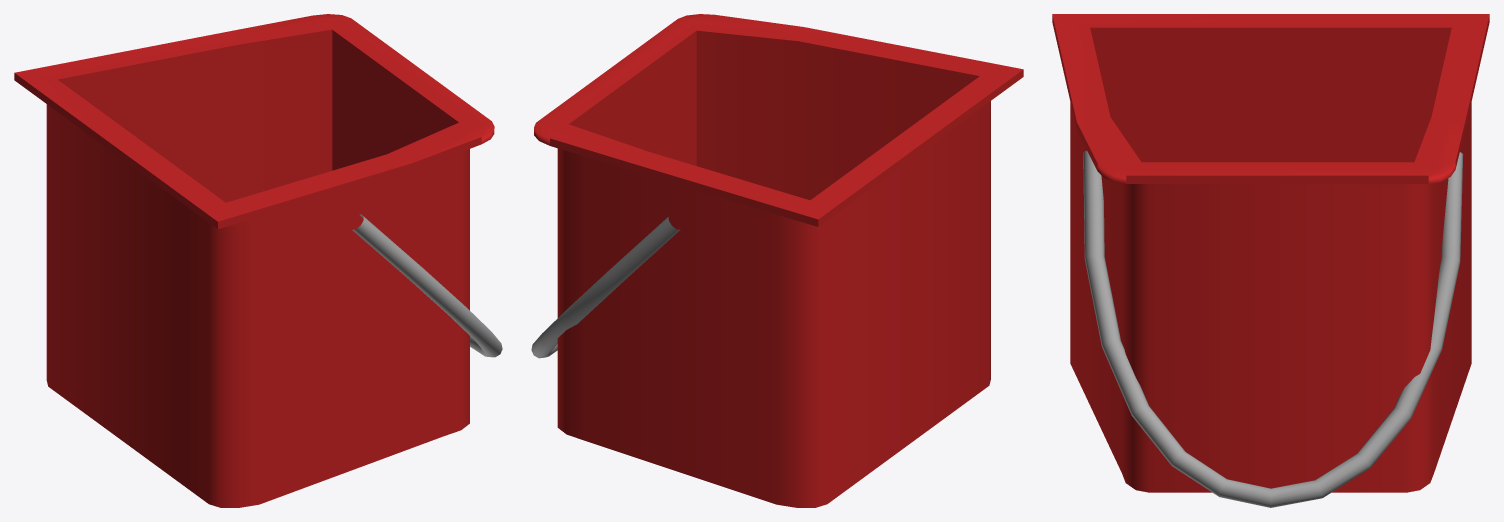
File: bucket_1.fbx
3 views of the same model, side by side, from view 1: azimuth 30°, elevation 25°; view 2: azimuth 150°, elevation 25°; view 3: azimuth 270°, elevation 25° (orthographic). The views are drawn at different scales.
Parts seen in each view (by area): view 1: Cube.060, BézierCurve.001; view 2: Cube.060, BézierCurve.001; view 3: Cube.060, BézierCurve.001.
Part boxes in pixels (<box>): Cube.060: <box>14,14,494,507</box>; BézierCurve.001: <box>352,214,502,357</box>; Cube.060: <box>534,14,1023,507</box>; BézierCurve.001: <box>531,217,680,358</box>; Cube.060: <box>1052,14,1489,492</box>; BézierCurve.001: <box>1083,151,1463,507</box>.
Bounding box in the file's own units: 39.29 × 31.06 × 38.05.
